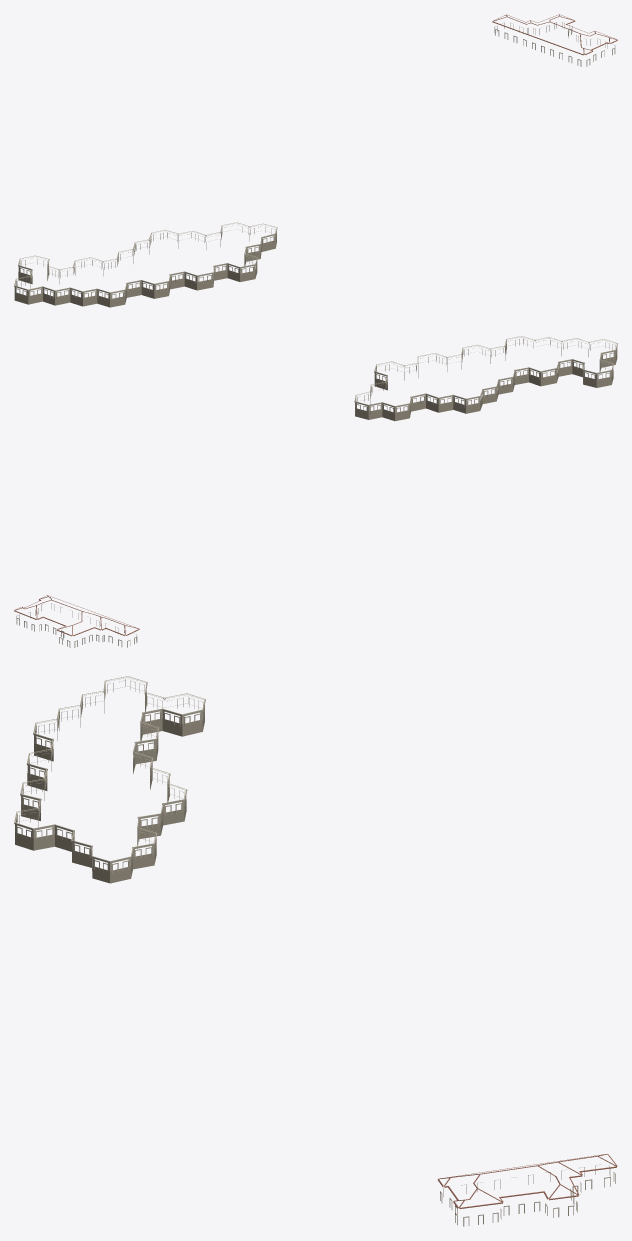
3 views of the same model, one above another, from view 1: azimuth 30°, elevation 25°; view 2: azimuth 210°, elevation 25°; view 3: azimuth 270°, elevation 25° (orthographic). The views are drawn at different scales.
Parts seen in each view (by area): view 1: detail; view 2: detail; view 3: detail.
Part boxes in pixels (x1,y1,x2,y2): detail: [14, 14, 617, 307]; detail: [14, 336, 617, 647]; detail: [14, 676, 617, 1226].
Bounding box in the file's own units: 310 × 9.85 × 153.
